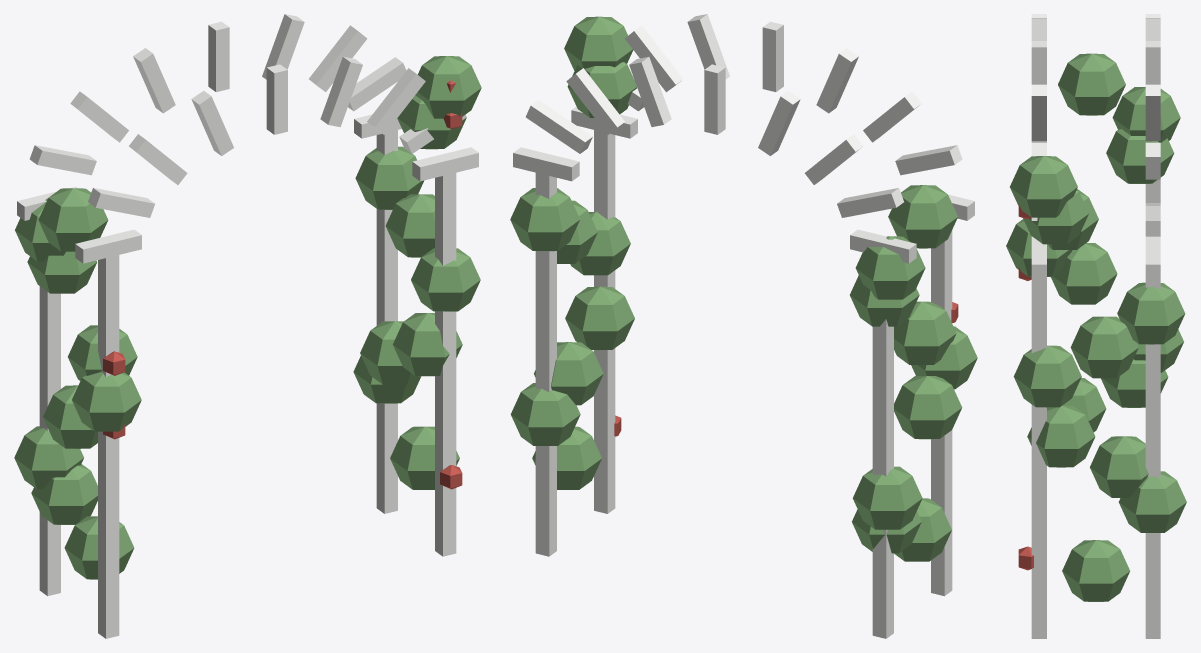
File: rose_arch.glb
3 views of the same model, side by side, from view 1: azimuth 30°, elevation 25°; view 2: azimuth 150°, elevation 25°; view 3: azimuth 270°, elevation 25° (orthographic). The views are drawn at different scales.
Visible parts, largest first — view 1: rose_arch; view 2: rose_arch; view 3: rose_arch.
Boxes of the visible parts, x1,y1,x2,y2 form: rose_arch: (14,14,481,638); rose_arch: (510,14,977,638); rose_arch: (1006,14,1186,638).
Size of the model in its own units: 2.41 by 2.97 by 0.9538.
